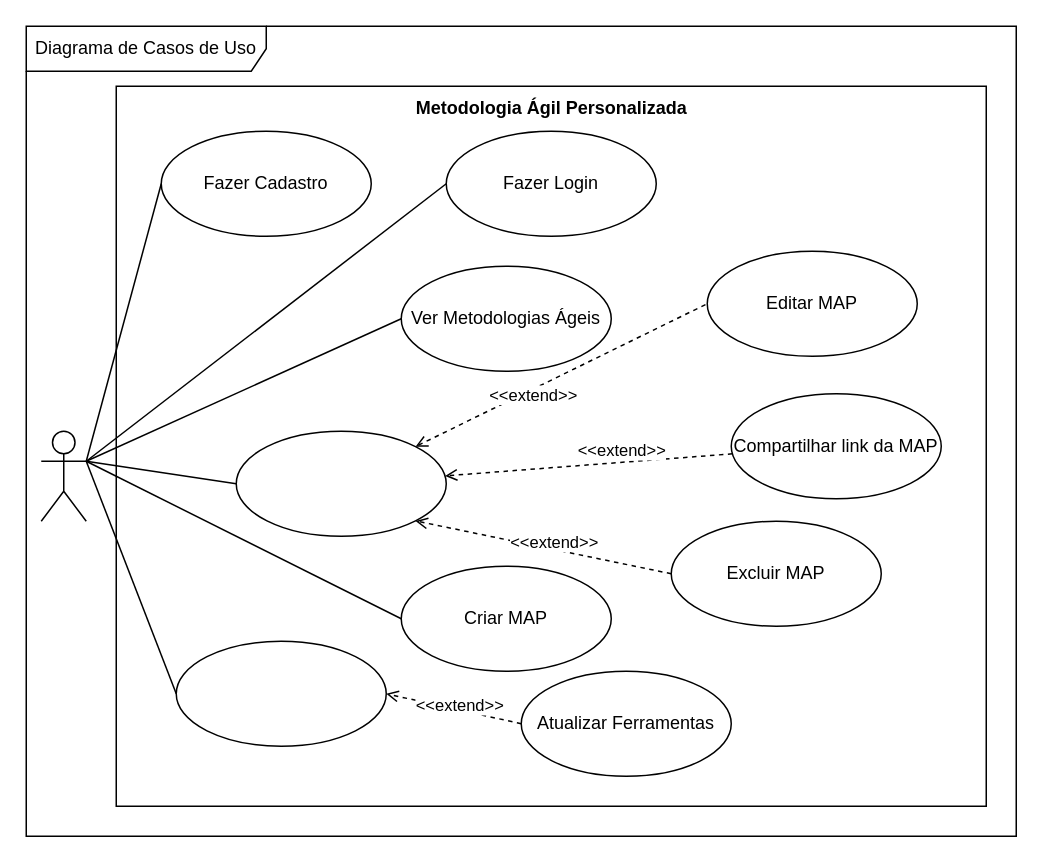
Image size: 1043x863. Some labels were removed from this diagram. Here are the shapes that lost their labels. From the top down, the centre of each, then its label:
At (x=63, y=475): "Usuário".
At (x=340, y=483): "Visualizar MAP".
At (x=280, y=693): "Visualizar Ferramentas".
